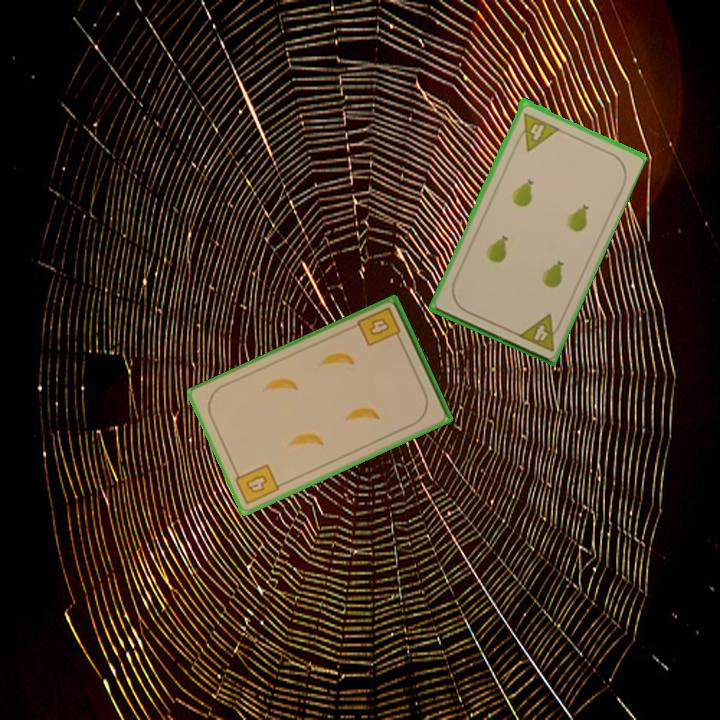4b: (231, 460, 282, 508), (354, 304, 405, 350)
4p: (514, 310, 566, 354), (511, 109, 561, 153)
